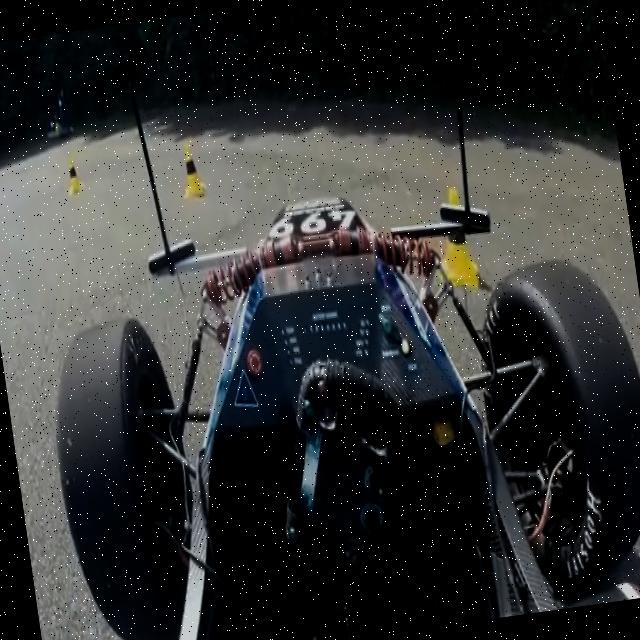yellow_cone: (428, 184, 482, 297), (176, 144, 208, 200), (66, 157, 86, 195)
